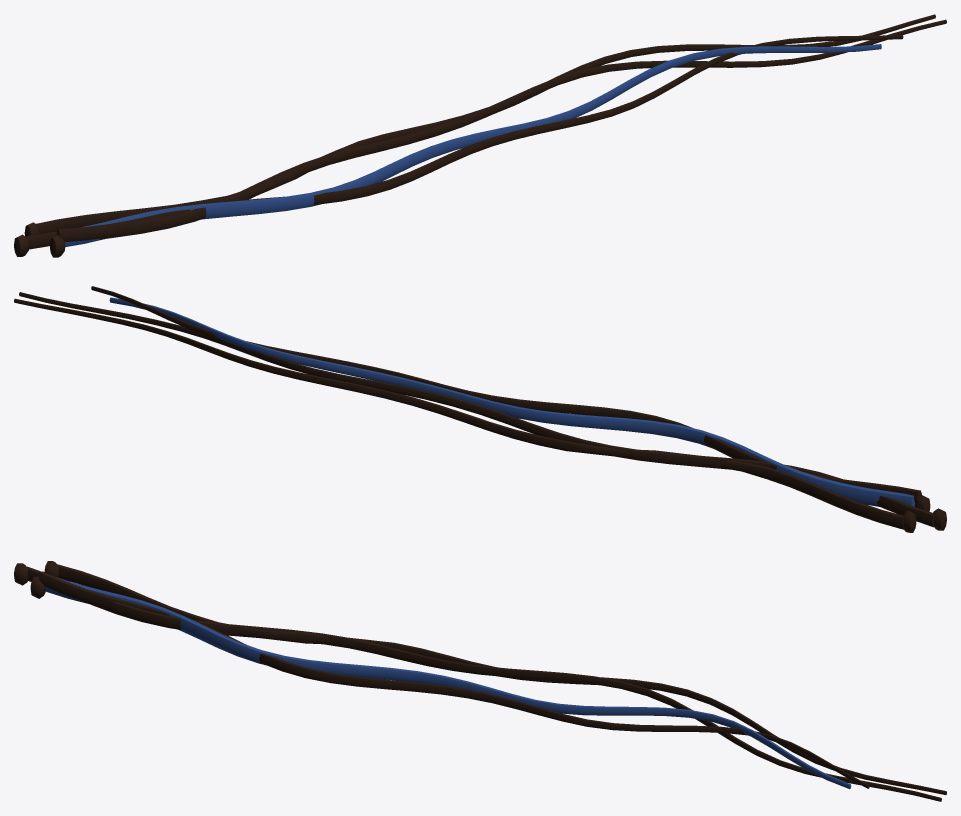
The model's file is hair_fiber.glb.
3 renders of one model, top to bottom at view 1: azimuth 30°, elevation 25°; view 2: azimuth 150°, elevation 25°; view 3: azimuth 330°, elevation 25°, orthographic.
Parts seen in each view (by area): view 1: hair_fiber; view 2: hair_fiber; view 3: hair_fiber.
Boxes of the visible parts, x1=… form: hair_fiber: x1=14, y1=14, x2=946, y2=257; hair_fiber: x1=14, y1=286, x2=946, y2=532; hair_fiber: x1=14, y1=561, x2=946, y2=801.
Size of the model in its own units: 0.26 by 0.008 by 0.03.
